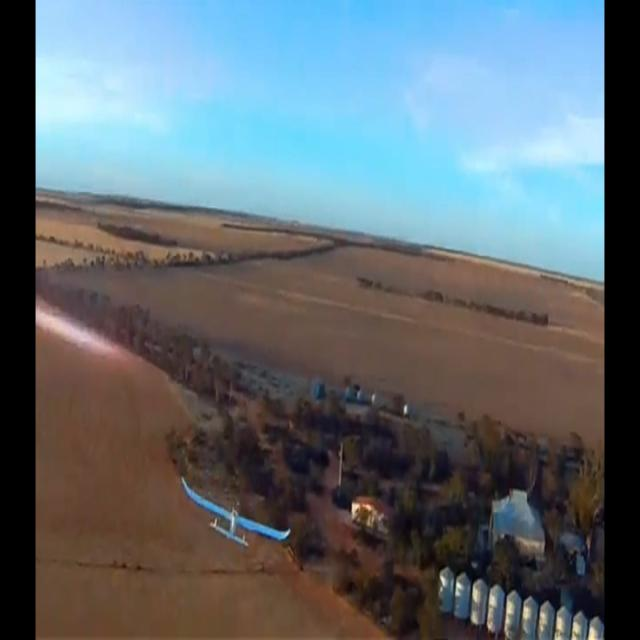iha: (212, 504, 260, 520)
